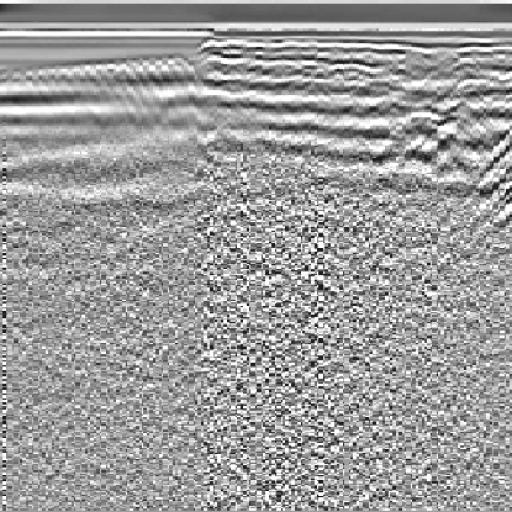metalic: (463, 57, 512, 276)
